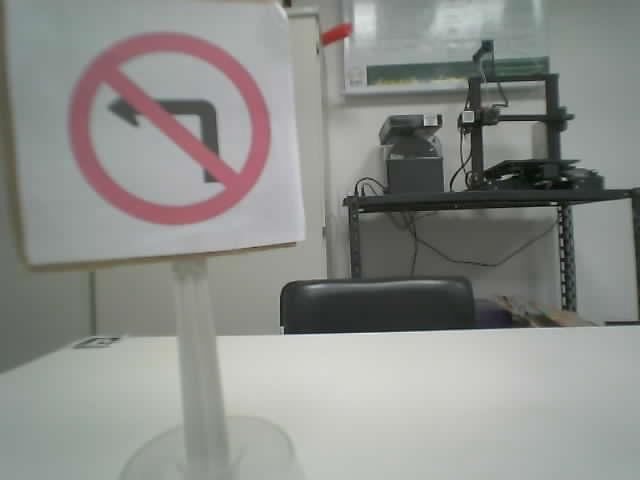R-4a_proibido-esquerda: (67, 31, 271, 225)
